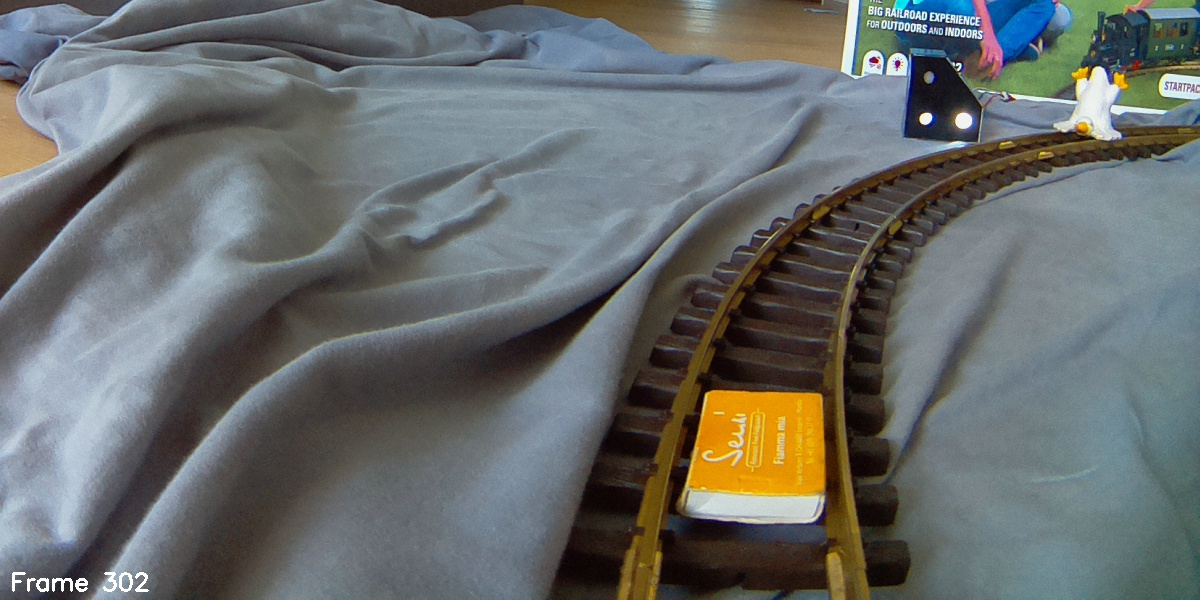Ente: (1051, 63, 1124, 145)
Halt: (901, 47, 983, 143)
